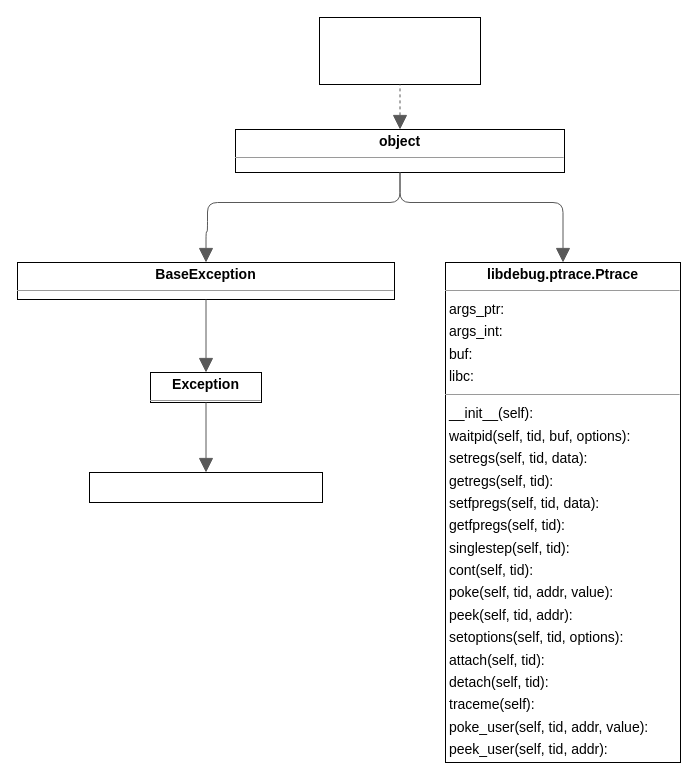
Some shapes in this 698 by 780 pixel diagram are drawn without their labels. The centre of each missing label's shape, as x and y in pixels:
"libdebug.ptrace.PtraceFail" goes at [205,487].
"typing.Hashable __hash__(self):" goes at [399,50].
